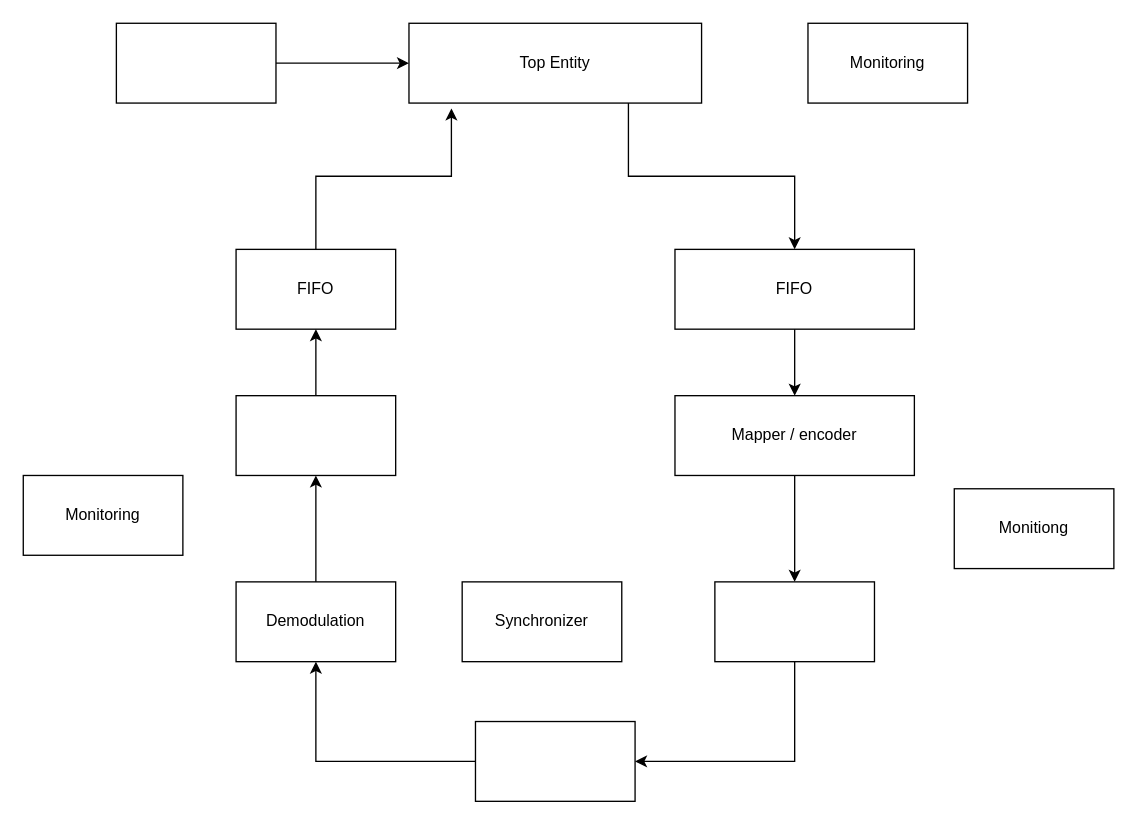
Some shapes in this 1137 by 825 pixel diagram are drawn without their labels. Here are the shapes that lost their labels. From the top down, the centre of each, then its label:
At [195,62]: "Framing".
At [315,434]: "Demapper / decoder".
At [794,621]: "Modulation".
At [554,760]: "DA / AD".
